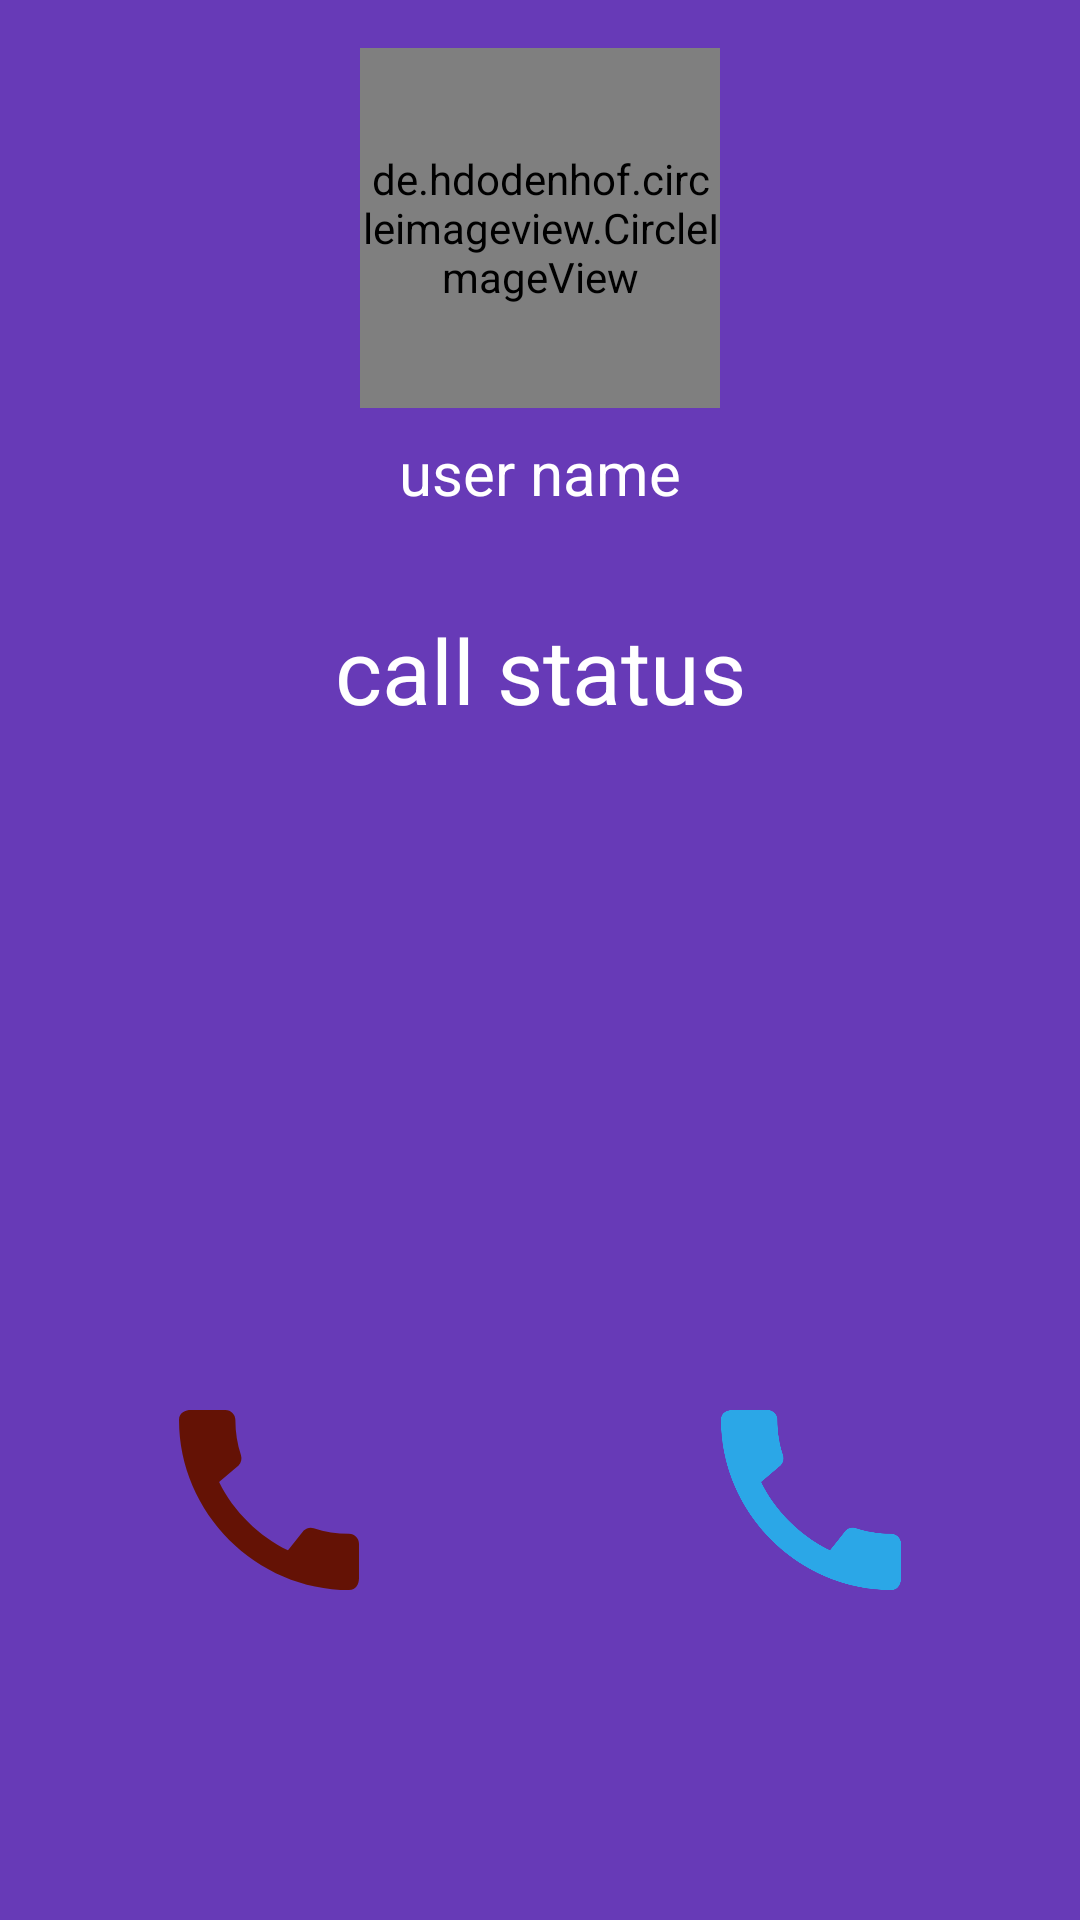

Where icons sit on this 1080 x 1920 app screen, as (x1, y1, x2, y2):
call accept: (721, 1410, 901, 1590)
call reject: (179, 1410, 359, 1590)
